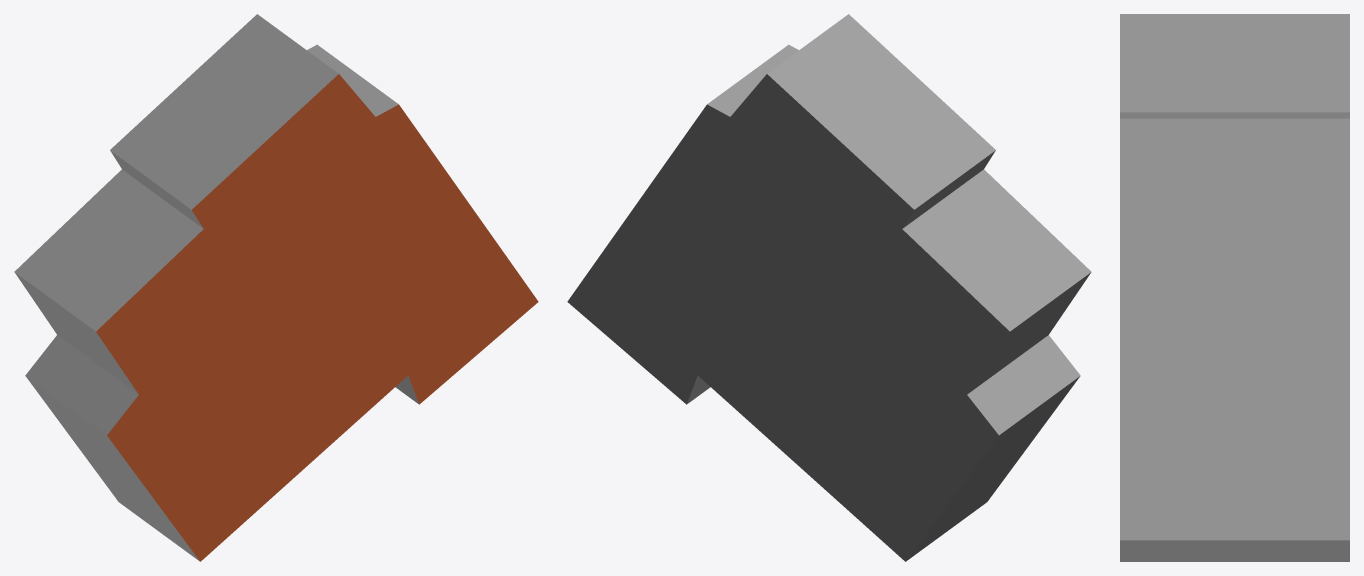
File: construction_1525_assumed_A_Casa_h6m.obj
3 views of the same model, side by side, from view 1: azimuth 30°, elevation 25°; view 2: azimuth 150°, elevation 25°; view 3: azimuth 270°, elevation 25° (orthographic). The views are drawn at different scales.
Visible parts, largest first — view 1: construction_1525_assumed_A_Casa; view 2: construction_1525_assumed_A_Casa; view 3: construction_1525_assumed_A_Casa.
Boxes of the visible parts, x1,y1,x2,y2 form: construction_1525_assumed_A_Casa: (14, 14, 538, 561); construction_1525_assumed_A_Casa: (567, 14, 1091, 561); construction_1525_assumed_A_Casa: (1120, 14, 1349, 561).
Size of the model in its own units: 18.76 by 18.4 by 6.
